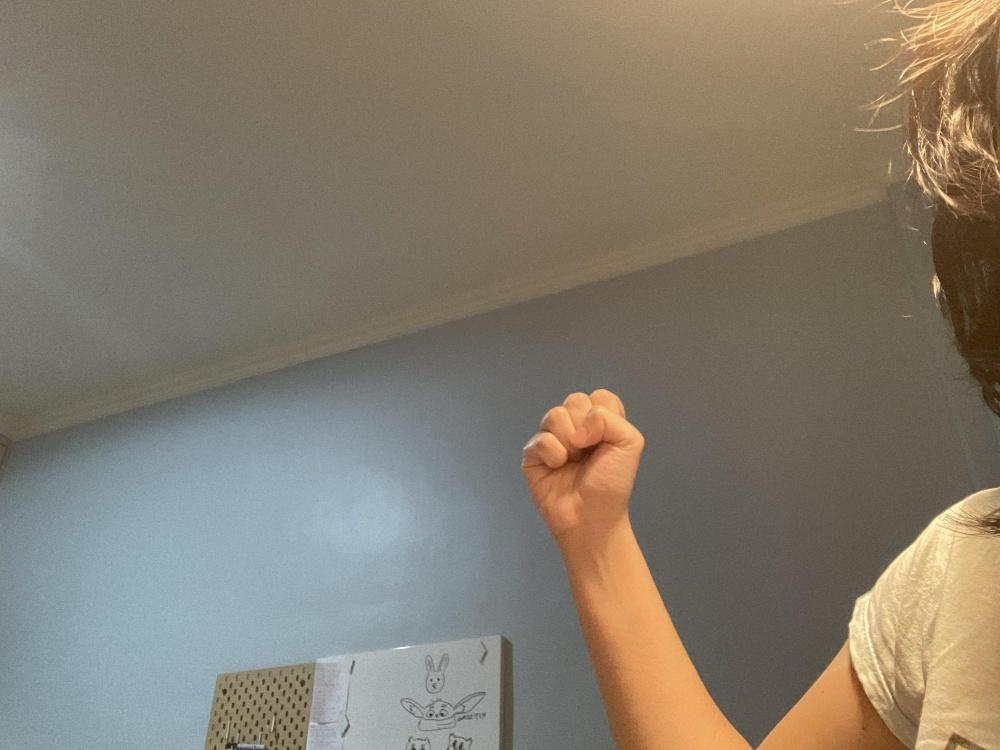s: (520, 387, 643, 533)
